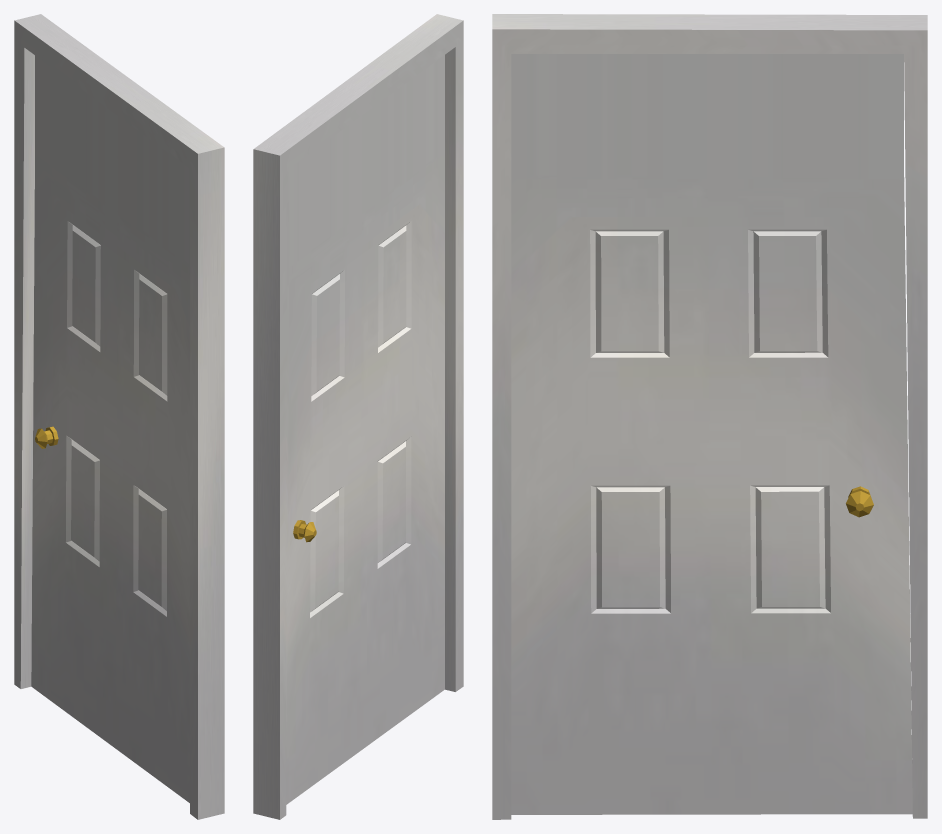
File: PuertaCuarto.obj
The picture shows the model from 3 angles, left to right: view 1: azimuth 30°, elevation 25°; view 2: azimuth 150°, elevation 25°; view 3: azimuth 270°, elevation 25°; orthographic projection. The views are drawn at different scales.
Parts seen in each view (by area): view 1: PuertaCuarto; view 2: PuertaCuarto; view 3: PuertaCuarto.
Part boxes in pixels (x1,y1,x2,y2): PuertaCuarto: [14, 14, 224, 819]; PuertaCuarto: [253, 14, 463, 819]; PuertaCuarto: [492, 14, 927, 819].
Size of the model in its own units: 0.6611 by 9.91 by 4.95.
